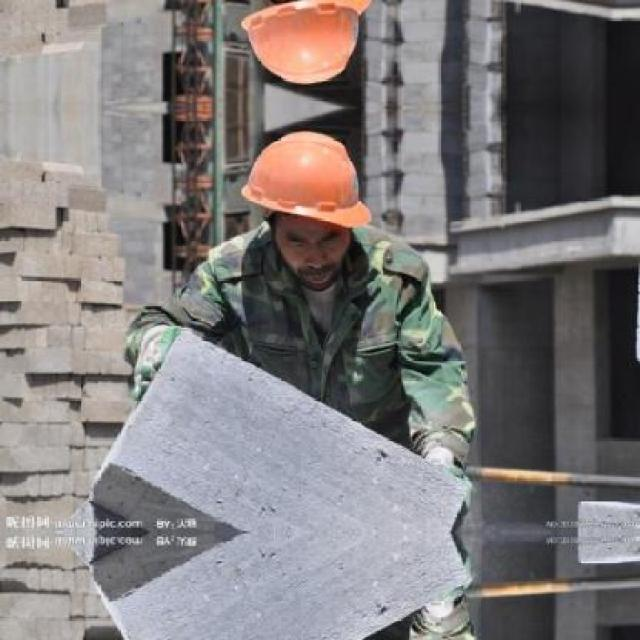helmet: (233, 114, 376, 280), (232, 0, 377, 100)
